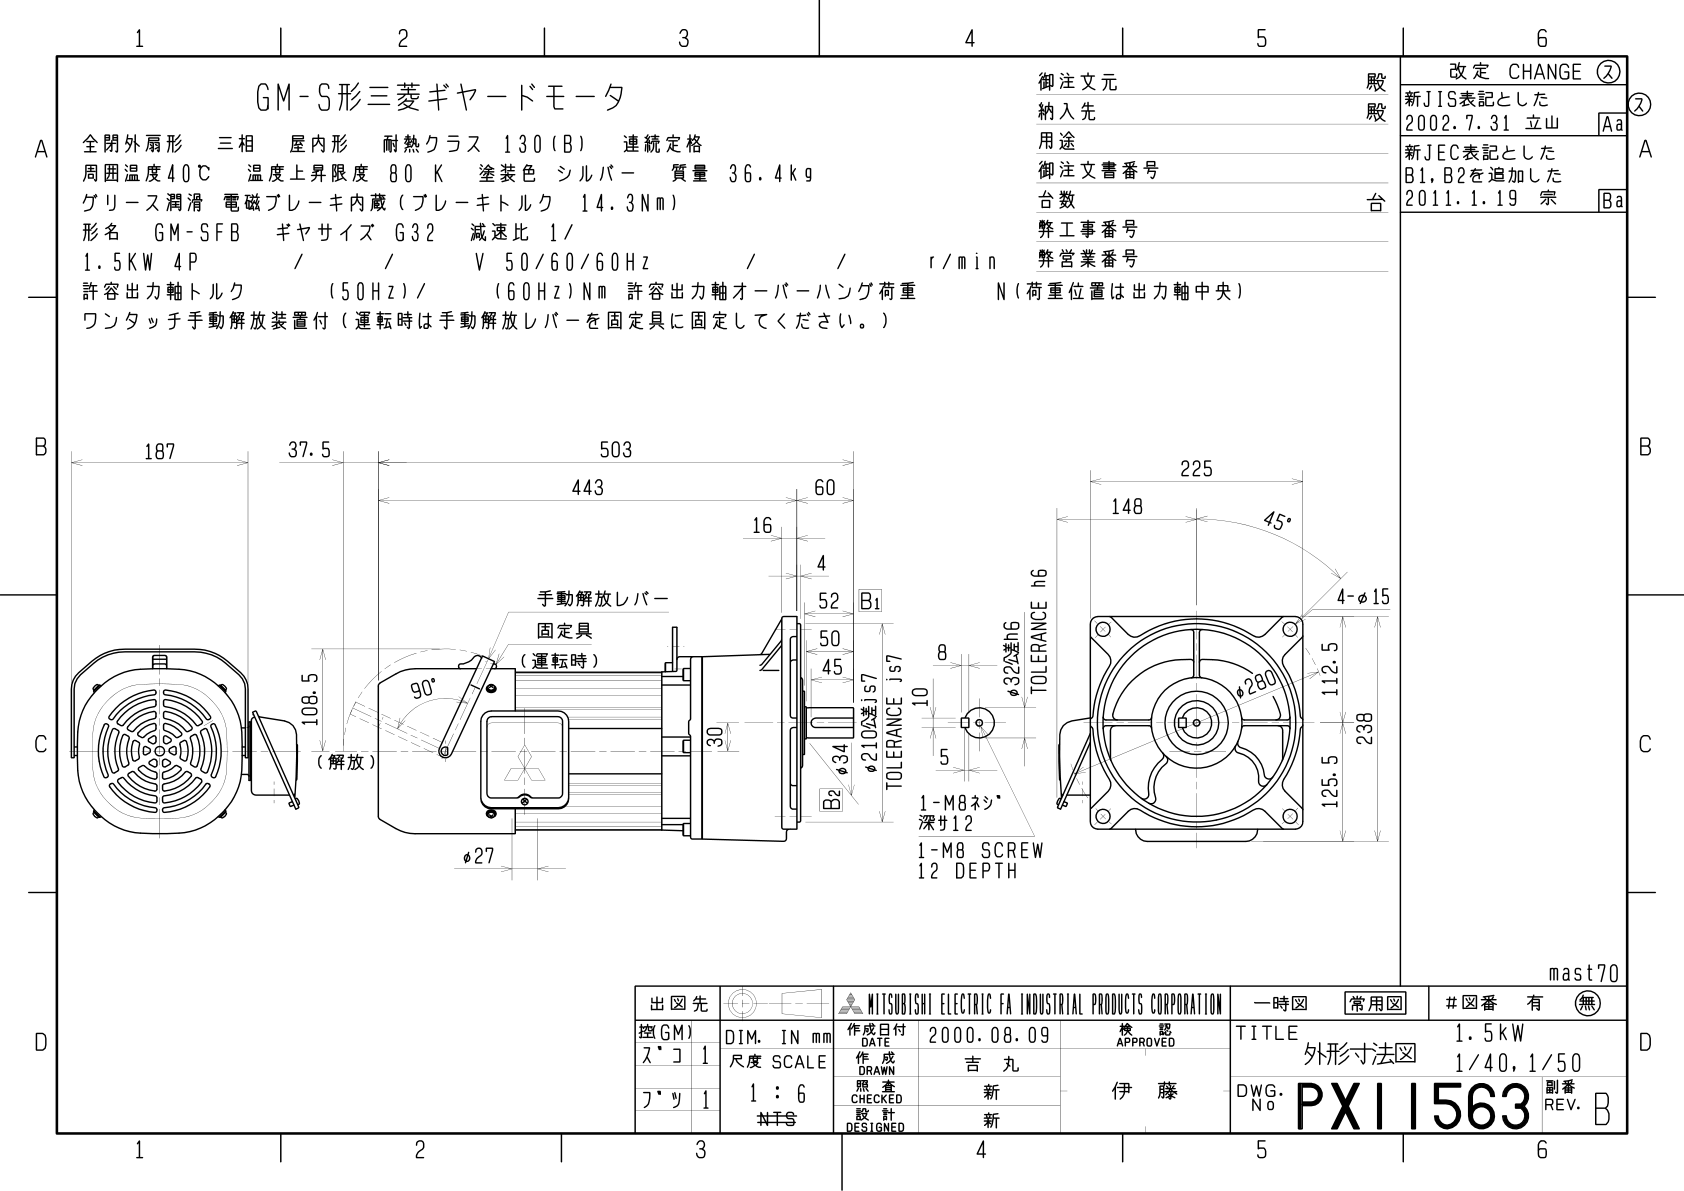GM_S_手動ブレーキ＿三相_フランジ: (64, 400, 1397, 900)
